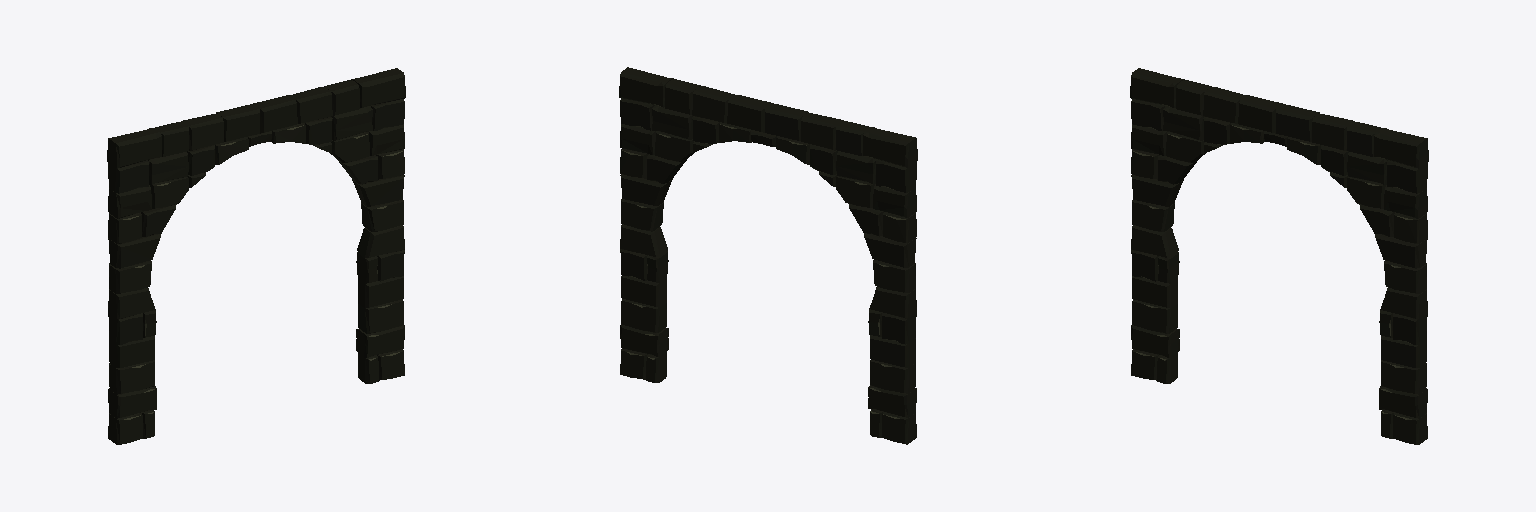
File: Wall_ArchRound.obj
3 views of the same model, side by side, from view 1: azimuth 30°, elevation 25°; view 2: azimuth 150°, elevation 25°; view 3: azimuth 330°, elevation 25° (orthographic).
Parts seen in each view (by area): view 1: Wall_ArchRound.001; view 2: Wall_ArchRound.001; view 3: Wall_ArchRound.001.
Part boxes in pixels (bbox=[...]): Wall_ArchRound.001: bbox=[107, 68, 405, 444]; Wall_ArchRound.001: bbox=[619, 67, 917, 444]; Wall_ArchRound.001: bbox=[1130, 68, 1428, 444].
Size of the model in its own units: 4 by 3.99 by 0.31.